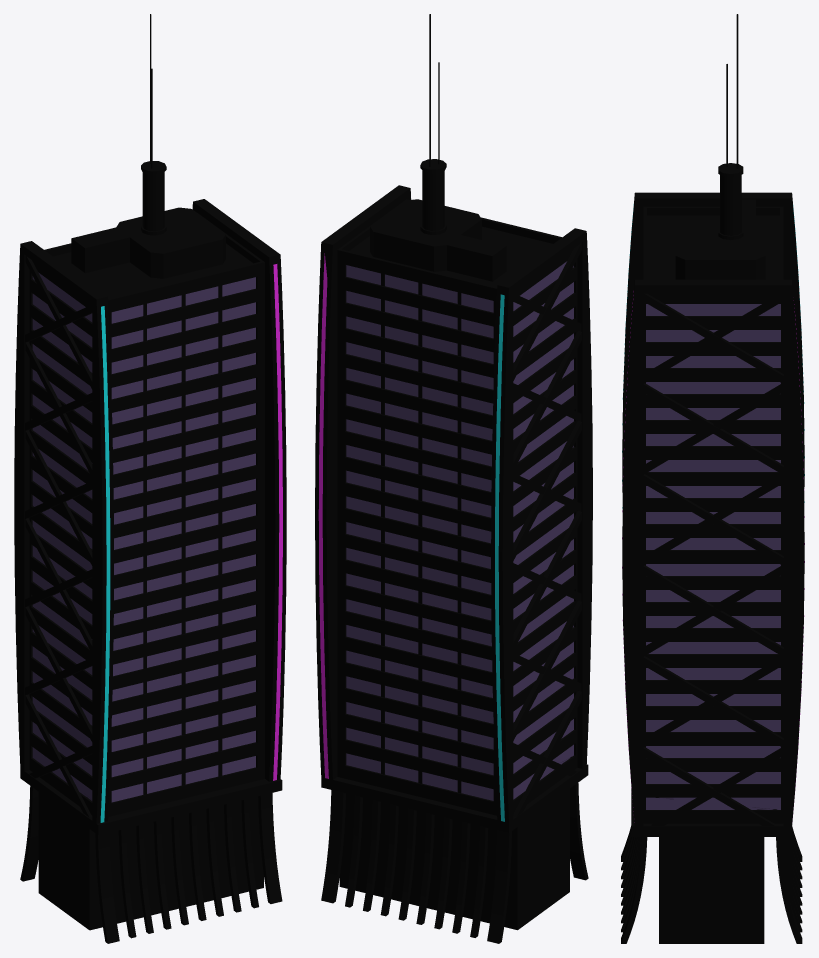
File: NeonBuilding.gltf
3 views of the same model, side by side, from view 1: azimuth 30°, elevation 25°; view 2: azimuth 150°, elevation 25°; view 3: azimuth 270°, elevation 25° (orthographic). The views are drawn at different scales.
Visible parts, largest first — view 1: Neon_Building02; view 2: Neon_Building02; view 3: Neon_Building02.
Part boxes in pixels (<box>): Neon_Building02: <box>14,14,286,943</box>; Neon_Building02: <box>315,14,592,943</box>; Neon_Building02: <box>621,14,804,943</box>.
Size of the model in its own units: 21.33 by 95.72 by 17.89.
Materials: 1 (1 with a texture image).
